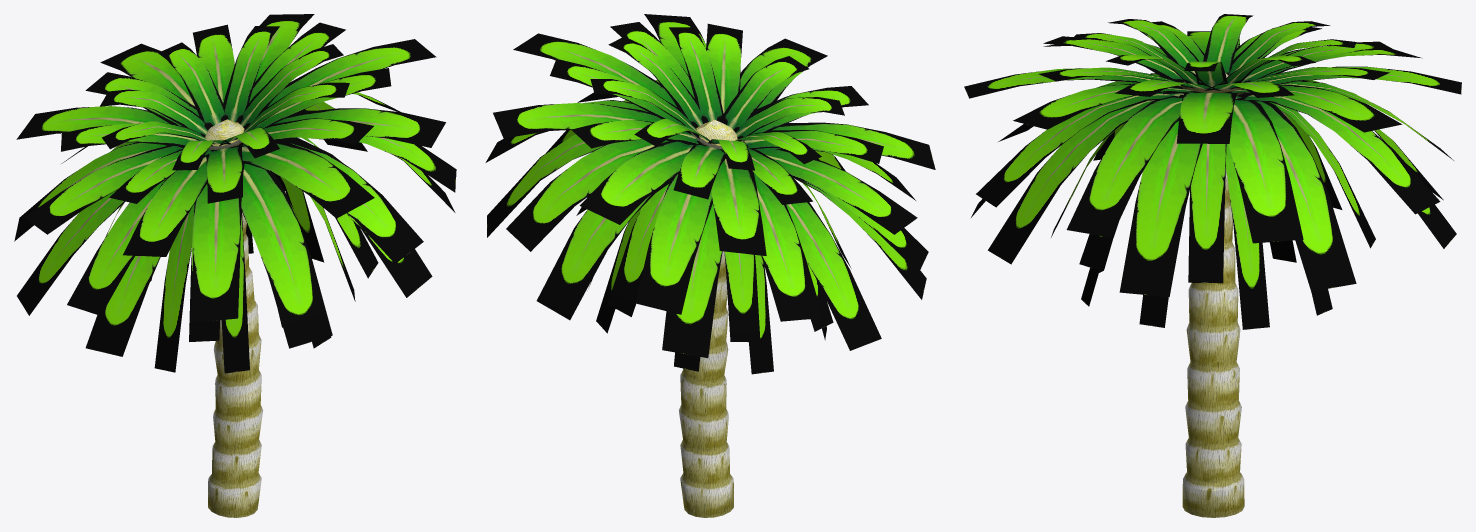
The picture shows the model from 3 angles, left to right: view 1: azimuth 30°, elevation 25°; view 2: azimuth 150°, elevation 25°; view 3: azimuth 270°, elevation 25°; orthographic projection. The views are drawn at different scales.
Visible parts, largest first — view 1: Mesh (2); view 2: Mesh (2); view 3: Mesh (2).
Part boxes in pixels (left/top/right/bottom): Mesh (2): left=14, top=14, right=456, bottom=517; Mesh (2): left=485, top=14, right=935, bottom=517; Mesh (2): left=964, top=14, right=1461, bottom=517.
Bounding box in the file's own units: 843 × 901 × 830.
Materials: 2 (2 with a texture image).
